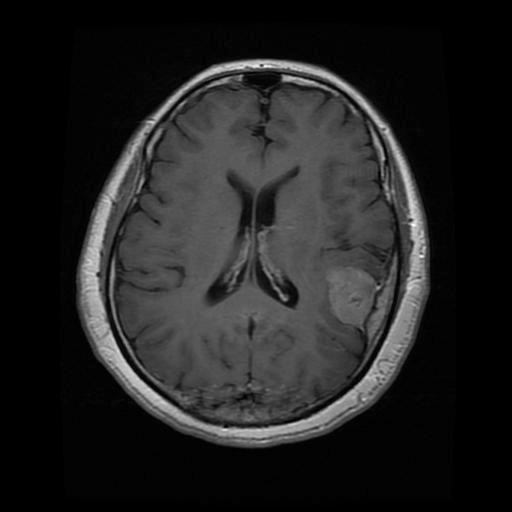Tumour-Meningioma: (317, 253, 389, 349)
